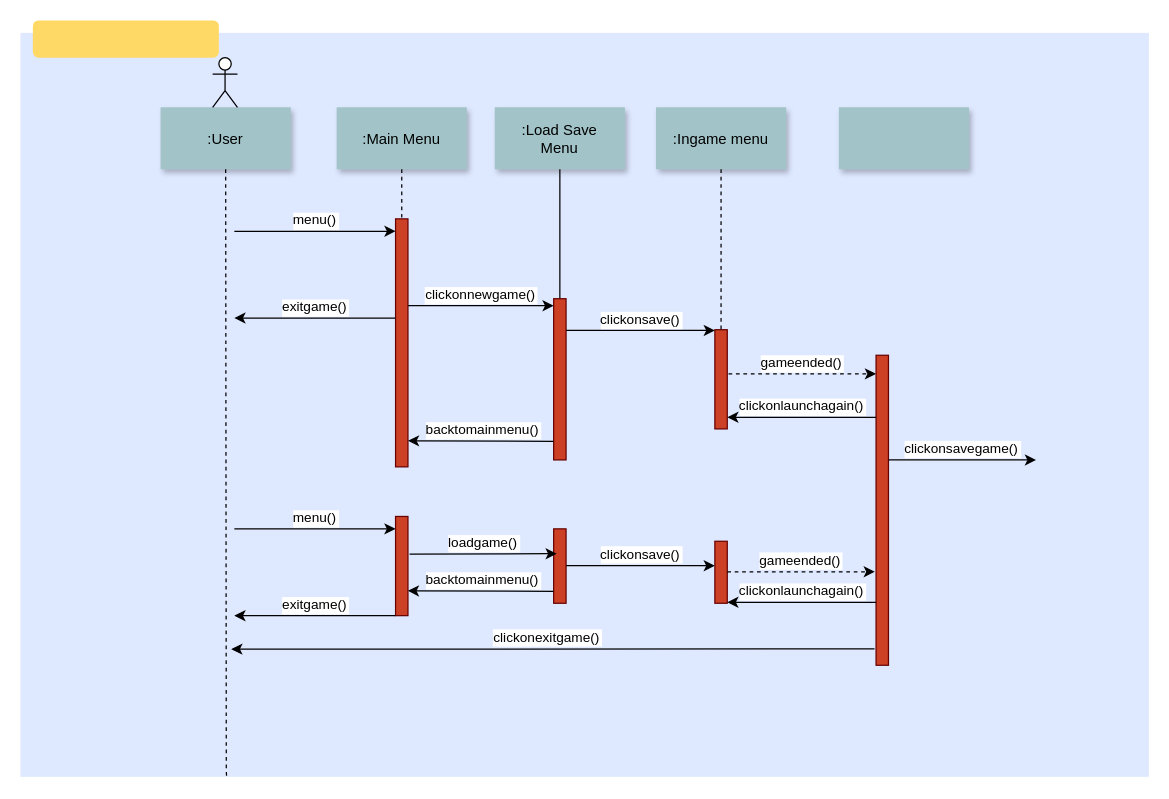
The diagram is 1169 pixels wide and 799 high, and some of its shapes have lost their labels. The centre of each missing label's shape, as x and y in pixels:
:Upgrade menu: pixel 904 139
Start Game: pixel 125 38
